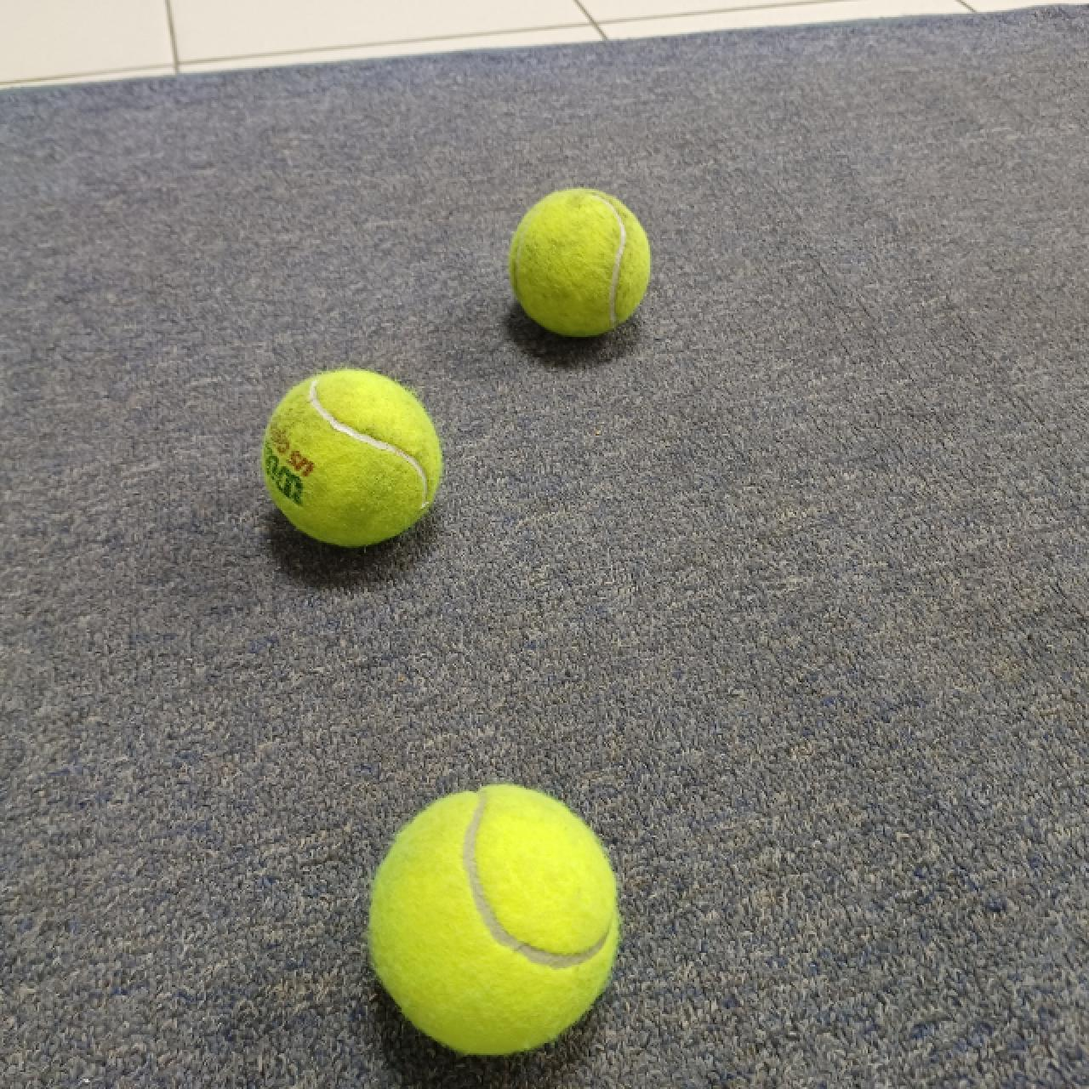tennis-ball: (365, 781, 619, 1060), (261, 368, 446, 551), (510, 185, 651, 339)
